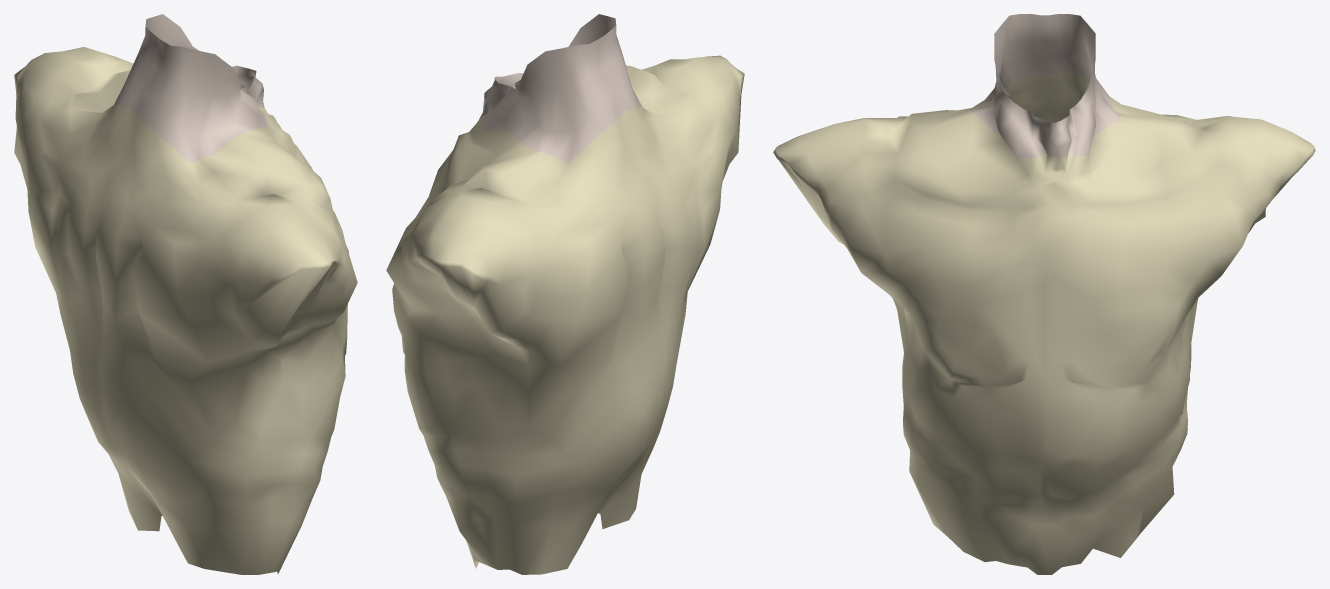
Rendered from chest.dae.
The picture shows the model from 3 angles, left to right: view 1: azimuth 30°, elevation 25°; view 2: azimuth 150°, elevation 25°; view 3: azimuth 270°, elevation 25°; orthographic projection. The views are drawn at different scales.
Parts seen in each view (by area): view 1: Chest_001; view 2: Chest_001; view 3: Chest_001.
Part boxes in pixels (x1=…): Chest_001: x1=14, y1=14, x2=357, y2=574; Chest_001: x1=386, y1=14, x2=744, y2=574; Chest_001: x1=773, y1=14, x2=1315, y2=574.
Bounding box in the file's own units: 0.2798 × 0.586 × 0.6144.
